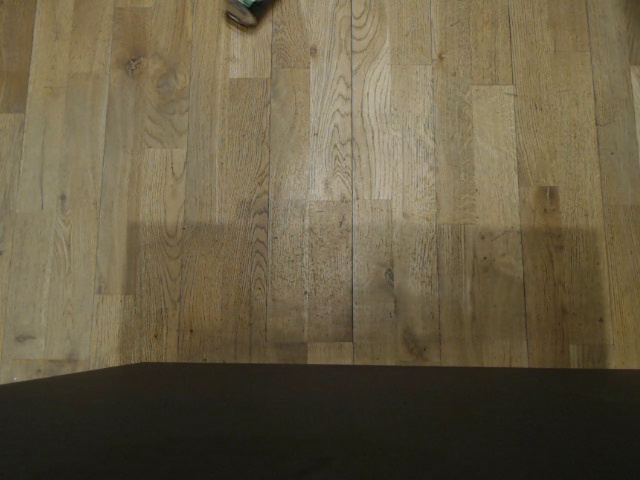beer: (222, 0, 277, 26)
